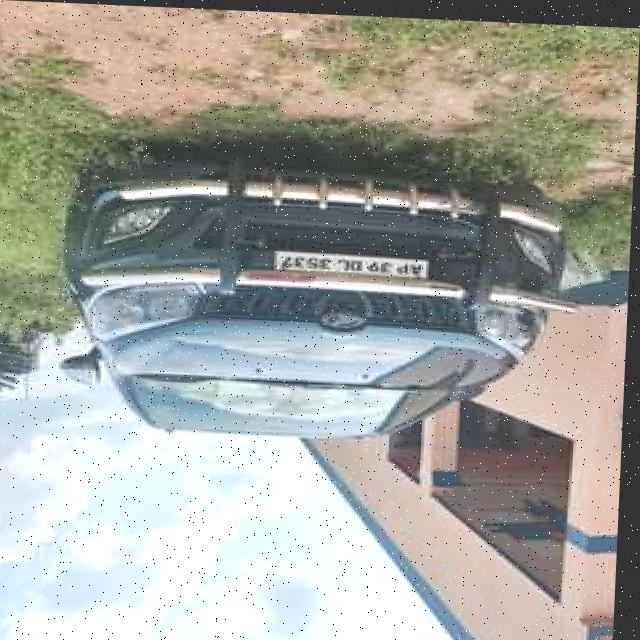plate: (273, 246, 431, 276)
